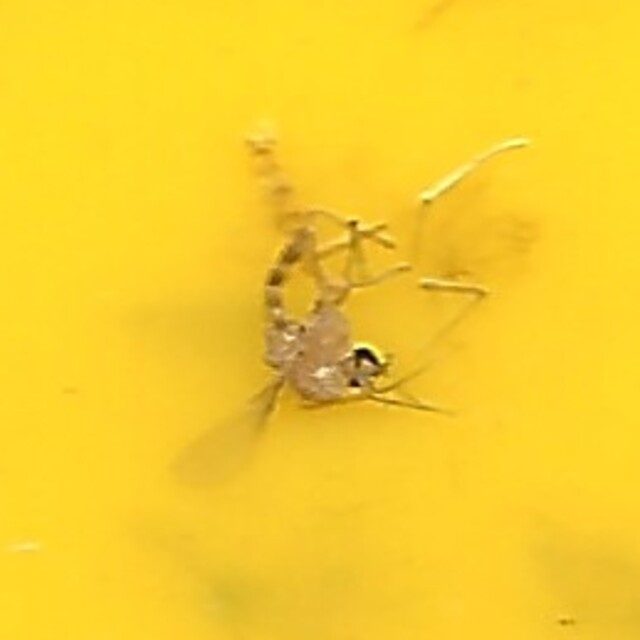Nematocera: (247, 220, 393, 420)
